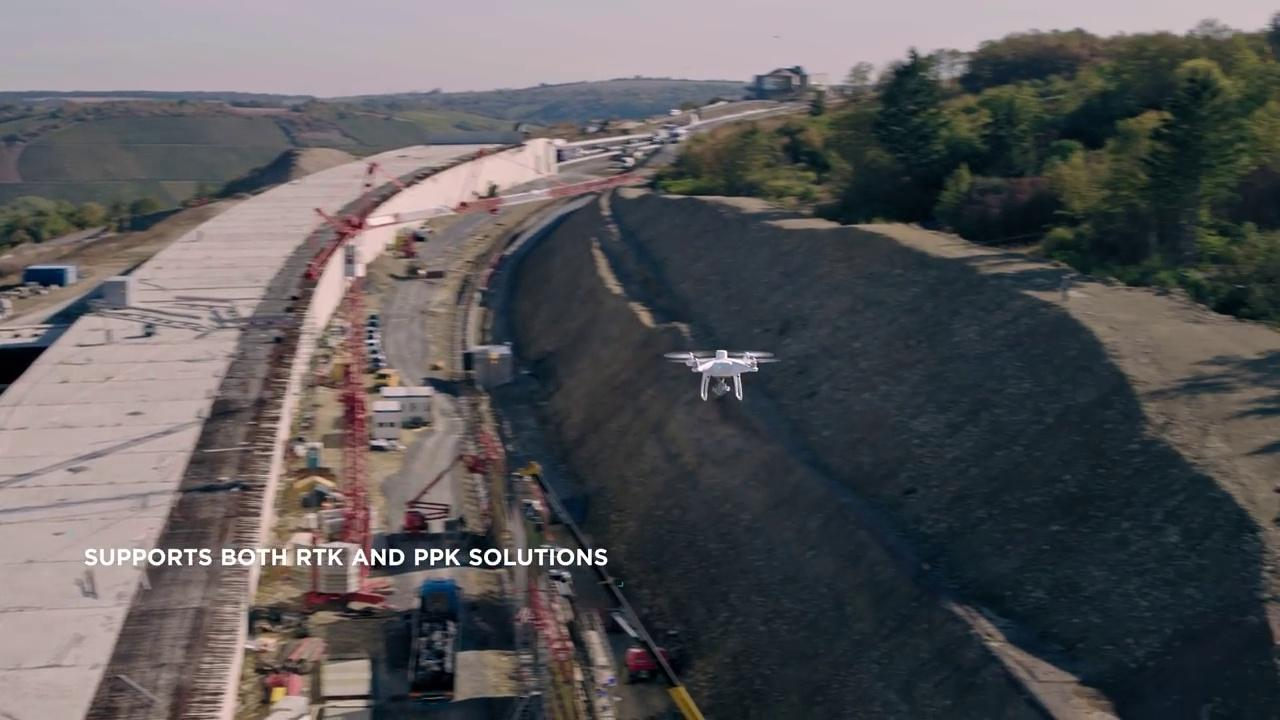drone: (661, 346, 785, 402)
